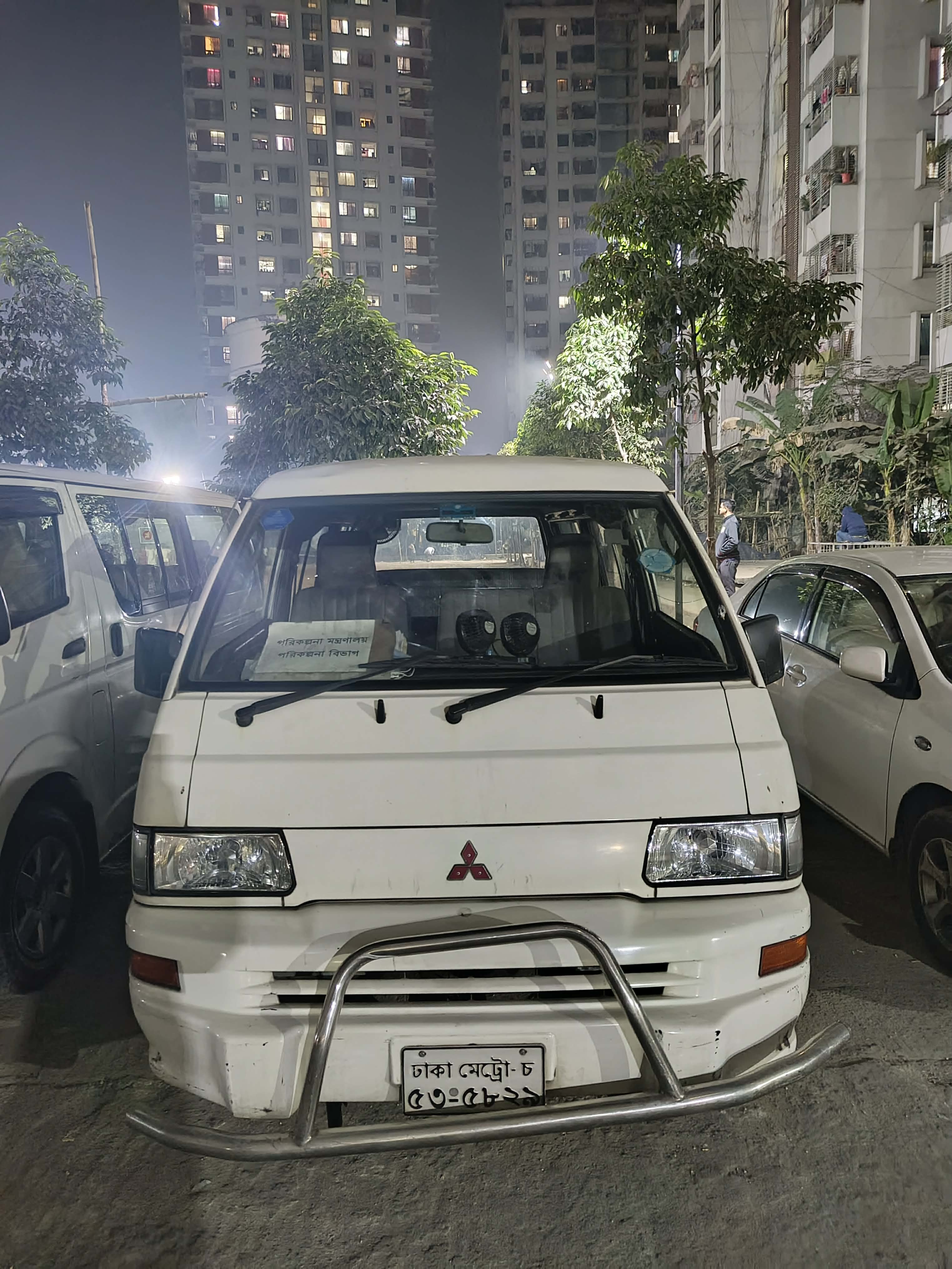private car: (137, 385, 882, 1182), (0, 416, 292, 972), (753, 497, 952, 1002)
